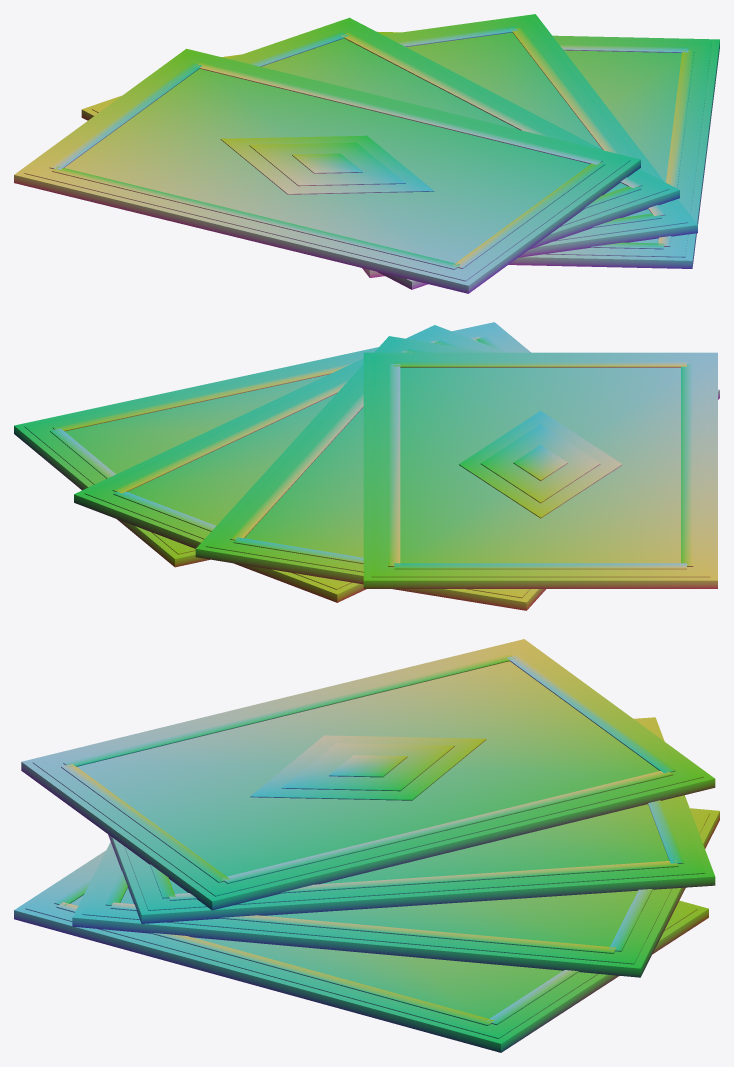
File: card_fan.fbx
3 renders of one model, top to bottom at view 1: azimuth 30°, elevation 25°; view 2: azimuth 150°, elevation 25°; view 3: azimuth 270°, elevation 25°, orthographic. The views are drawn at different scales.
Visible parts, largest first — view 1: card_fan; view 2: card_fan; view 3: card_fan.
Part boxes in pixels (<box>): card_fan: <box>14,14,719,293</box>; card_fan: <box>14,322,719,610</box>; card_fan: <box>14,639,719,1052</box>.
Size of the model in its own units: 1.07 by 0.0569 by 0.8508.
